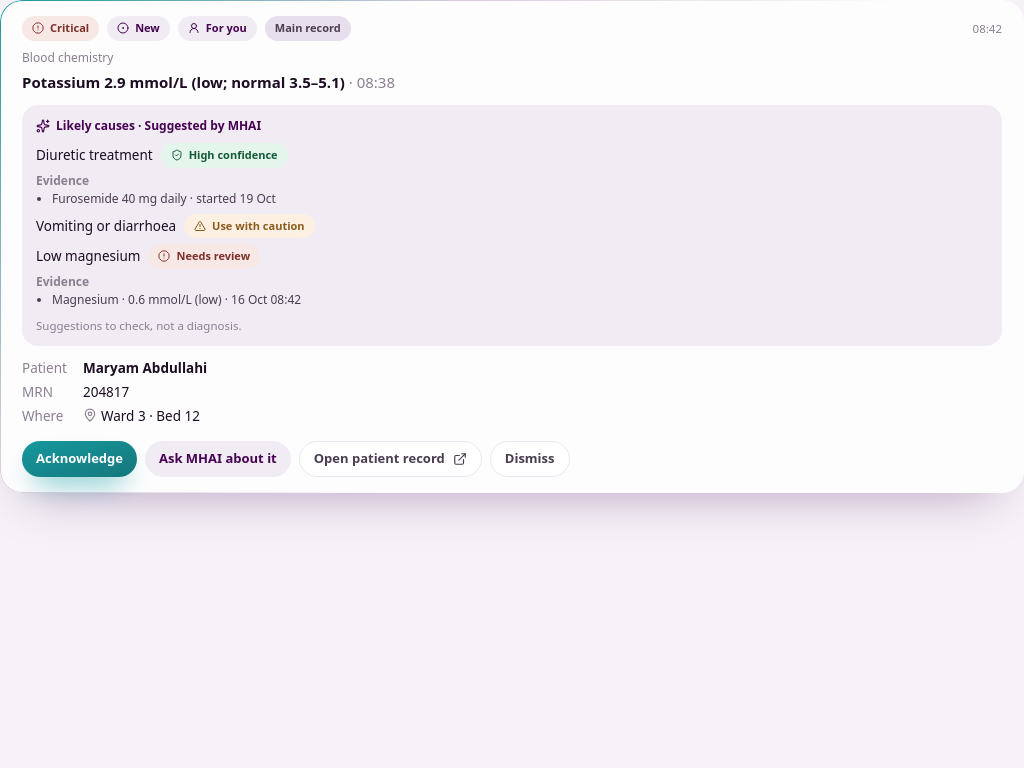
Test case: AlertCard › shows who handled it first and disables the actions with that reason (Review Focus 1)
Click the button "Acknowledge" at (80, 458), box [22, 440, 137, 476]
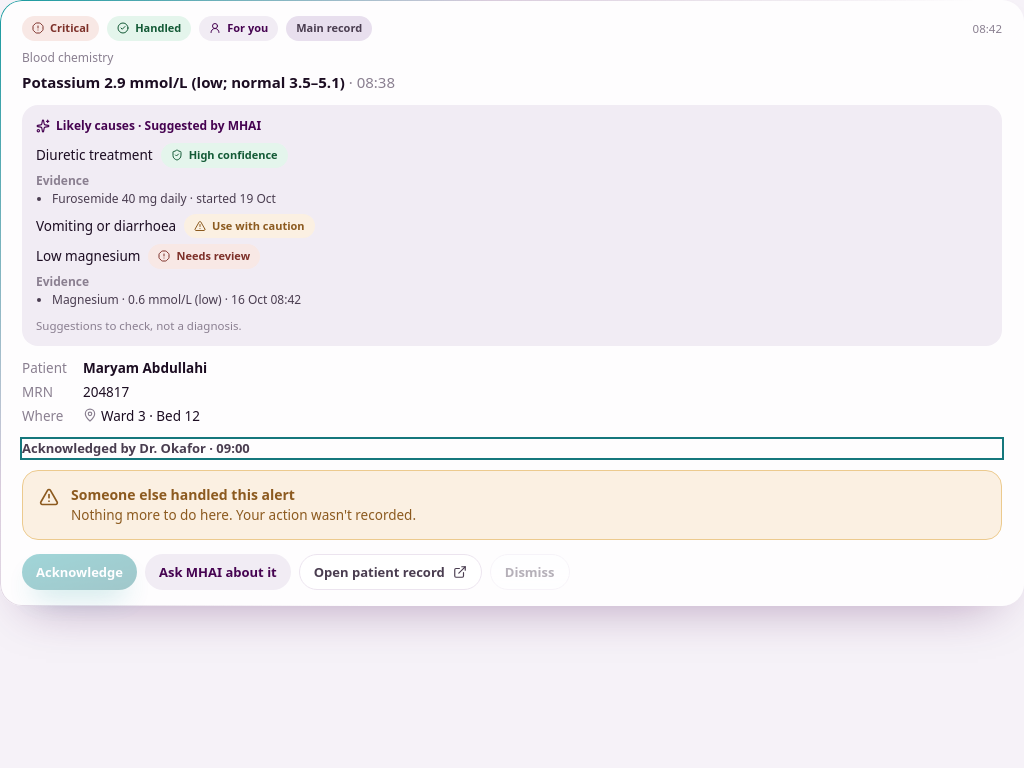
Now the text "Someone else handled this alert" is shown, box [71, 485, 295, 504]
Now the button "Acknowledge" is disabled, box [22, 554, 137, 590]
Now the button "Dismiss" is disabled, box [490, 554, 570, 590]
